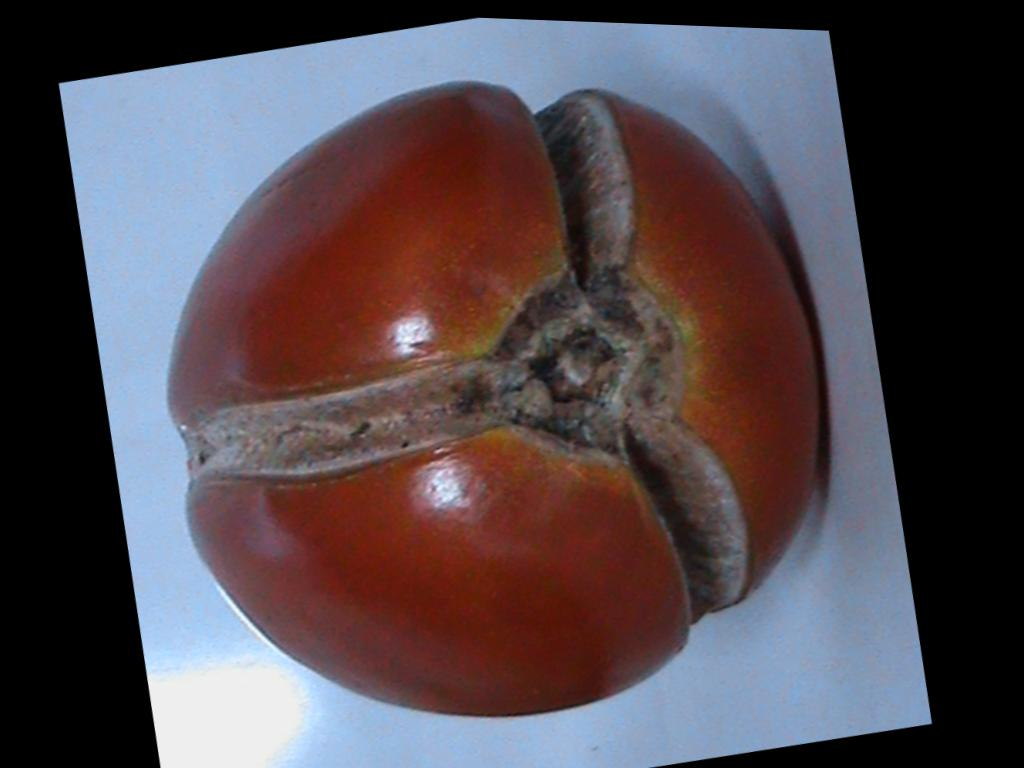surface_damage: (184, 361, 510, 478), (625, 392, 747, 620), (535, 88, 633, 286)
tomato: (167, 80, 817, 714)
